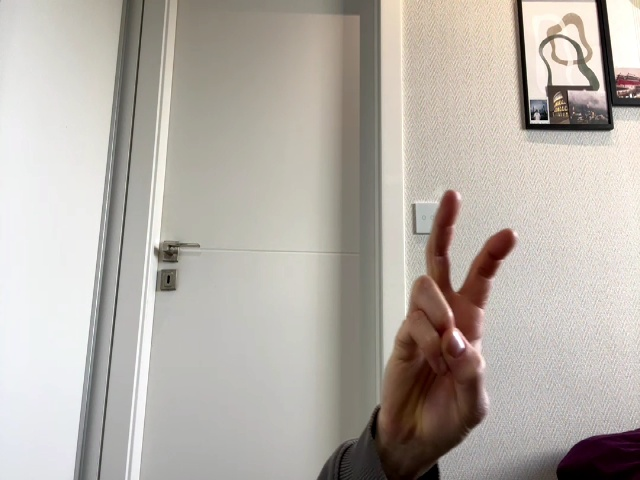H: (385, 190, 518, 448)
